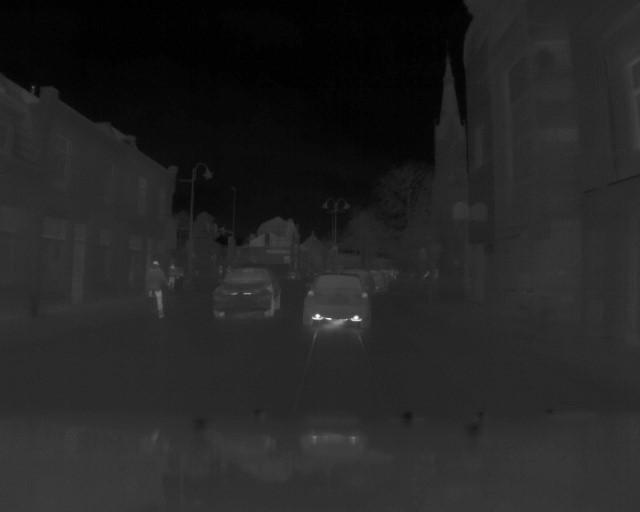car: (211, 265, 289, 323), (301, 271, 375, 330)
person: (140, 258, 170, 320), (166, 264, 179, 294)
